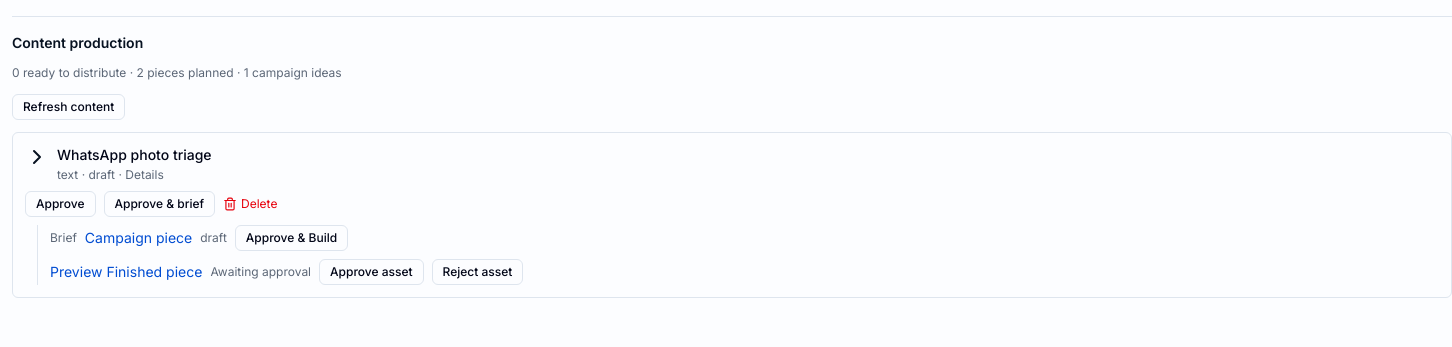
Test: deleting a campaign content idea › deletes the idea through delete_client_idea and never the campaign
The image size is (1452, 347).
Click the button with aria-label "Delete WhatsApp photo triage": click(250, 204) [223,196,277,212]
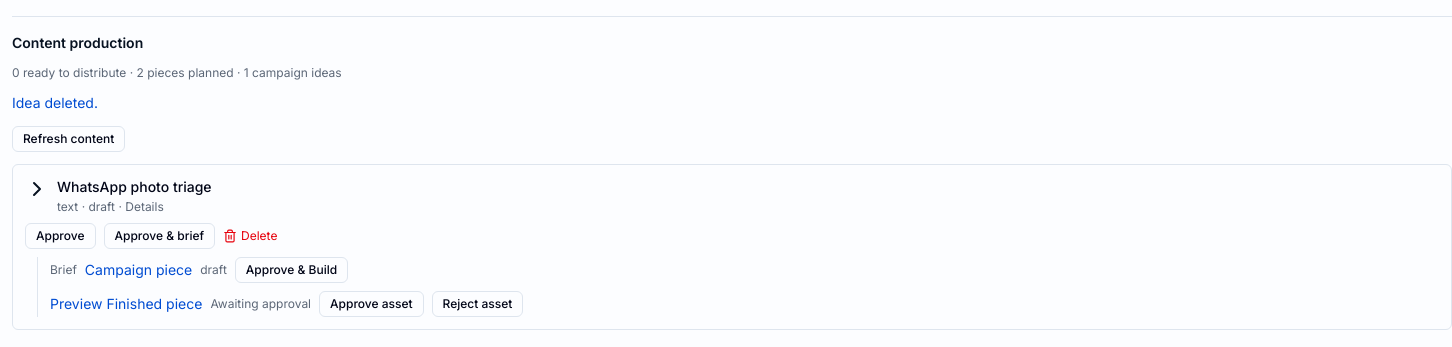
expect the message shows "Idea deleted": met, box [12,94,98,111]
